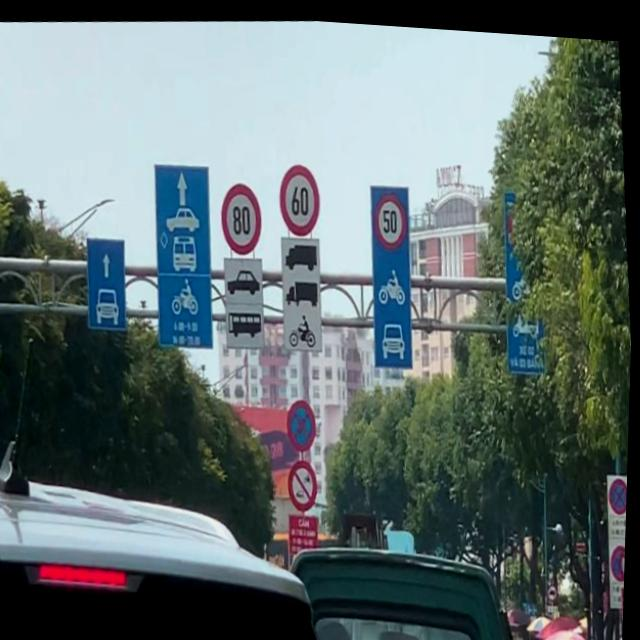Cam dung xe va do xe: (286, 394, 321, 448), (609, 467, 630, 506)
Toc do toi da cho phep: (217, 178, 266, 254), (276, 157, 324, 234), (372, 184, 411, 247)
